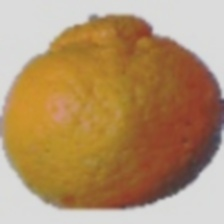tangerine: (47, 13, 203, 183)
